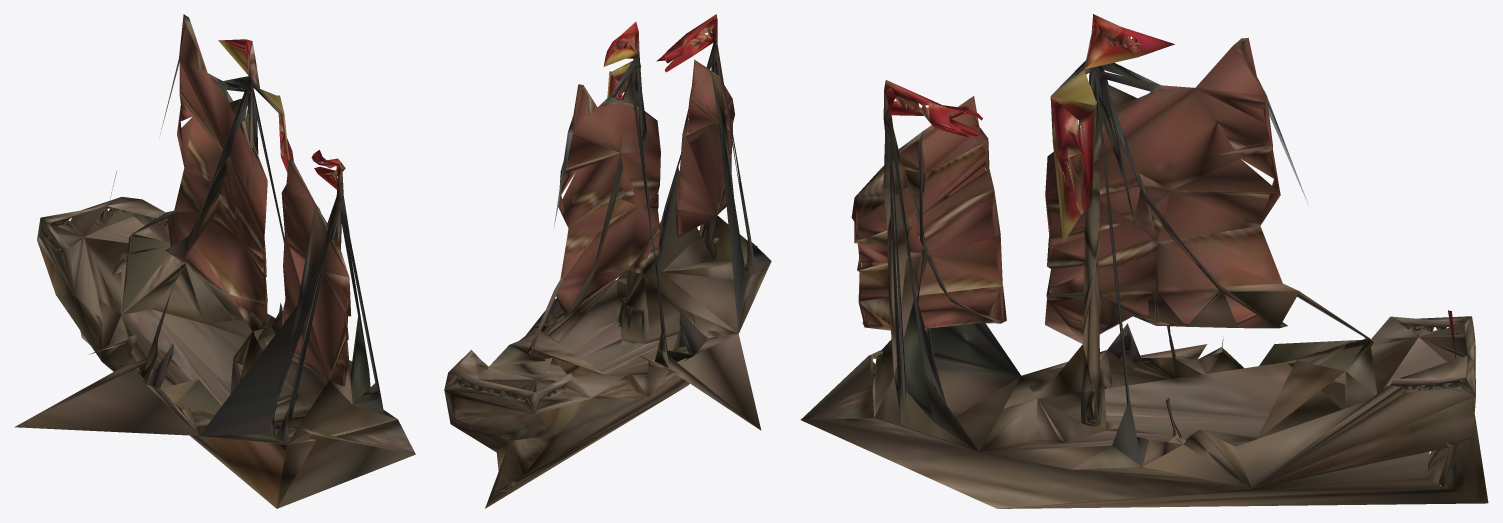
The model's file is mingsmall_lod2.glb.
3 renders of one model, left to right at view 1: azimuth 30°, elevation 25°; view 2: azimuth 150°, elevation 25°; view 3: azimuth 270°, elevation 25°, orthographic. The views are drawn at different scales.
Visible parts, largest first — view 1: tripo_node_fd3fa530-f418-49f2-8ebe-bd2e94087054; view 2: tripo_node_fd3fa530-f418-49f2-8ebe-bd2e94087054; view 3: tripo_node_fd3fa530-f418-49f2-8ebe-bd2e94087054.
Part boxes in pixels (x1=…): tripo_node_fd3fa530-f418-49f2-8ebe-bd2e94087054: x1=14, y1=14, x2=415, y2=508; tripo_node_fd3fa530-f418-49f2-8ebe-bd2e94087054: x1=444, y1=14, x2=771, y2=508; tripo_node_fd3fa530-f418-49f2-8ebe-bd2e94087054: x1=801, y1=14, x2=1488, y2=508.
Size of the model in its own units: 0.5404 by 0.7713 by 0.9533.
Materials: 1 (1 with a texture image).
